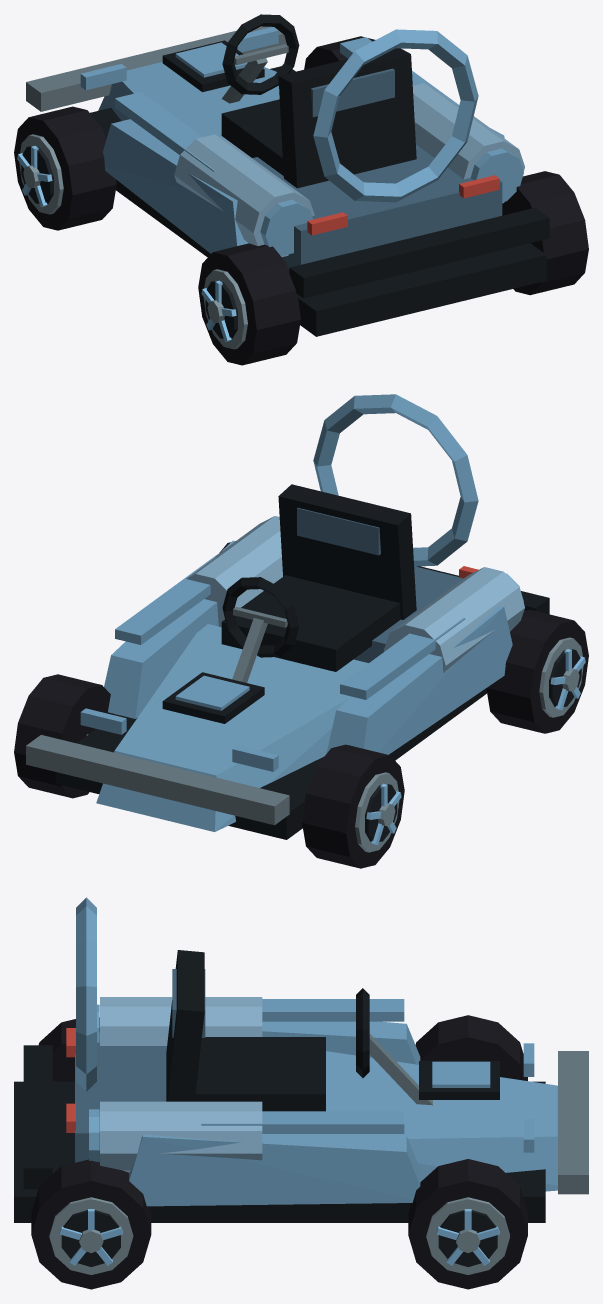
The model's file is kart.glb.
The picture shows the model from 3 angles, top to bottom: view 1: azimuth 30°, elevation 25°; view 2: azimuth 150°, elevation 25°; view 3: azimuth 270°, elevation 25°; orthographic projection. The views are drawn at different scales.
Parts seen in each view (by area): view 1: chassis, wheel-rear-left, wheel-front-left, wheel-rear-right, wheel-front-right; view 2: chassis, wheel-front-left, wheel-rear-left, wheel-front-right; view 3: chassis, wheel-front-right, wheel-rear-right, wheel-front-left, wheel-rear-left.
Part boxes in pixels (box(x1,y1,x2,y2)): chassis: box(26, 14, 549, 336); wheel-rear-left: box(198, 243, 300, 365); wheel-front-left: box(14, 106, 116, 230); wheel-rear-right: box(502, 171, 588, 295); wheel-front-right: box(304, 36, 375, 69); chassis: box(26, 394, 549, 839); wheel-front-left: box(302, 744, 404, 868); wheel-rear-left: box(486, 609, 588, 733); wheel-front-right: box(14, 674, 115, 798); chassis: box(14, 897, 588, 1222); wheel-front-right: box(408, 1159, 527, 1289); wheel-rear-right: box(31, 1159, 151, 1289); wheel-front-left: box(415, 1015, 527, 1080); wheel-rear-left: box(38, 1017, 99, 1081).
Size of the model in its own units: 2.2 by 1.72 by 2.98.
